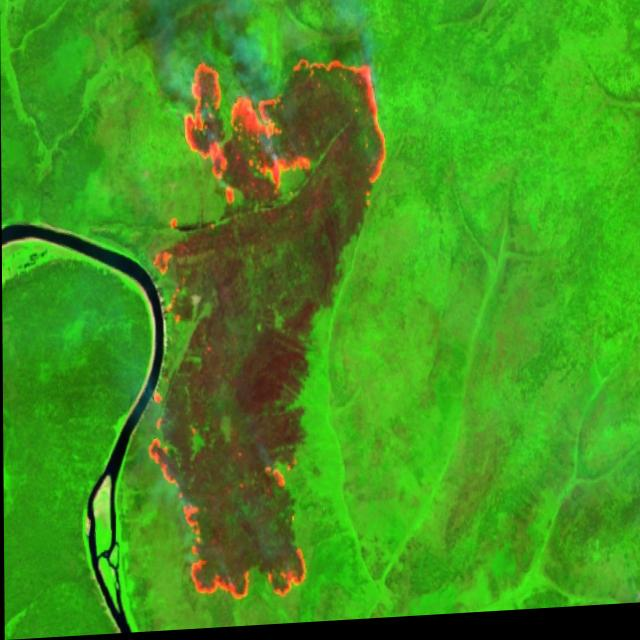fire: (141, 42, 407, 620)
